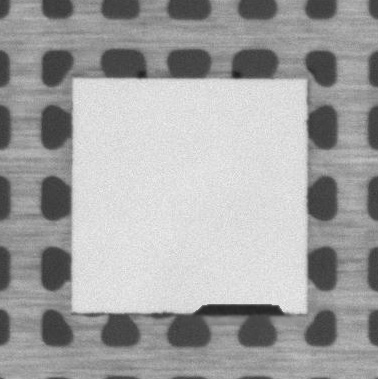DIE_BROKEN: (191, 302, 284, 317)
